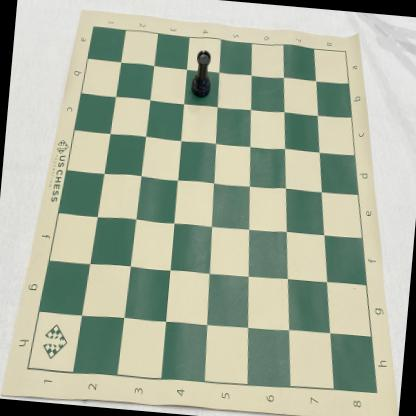rook: (190, 49, 214, 99)
